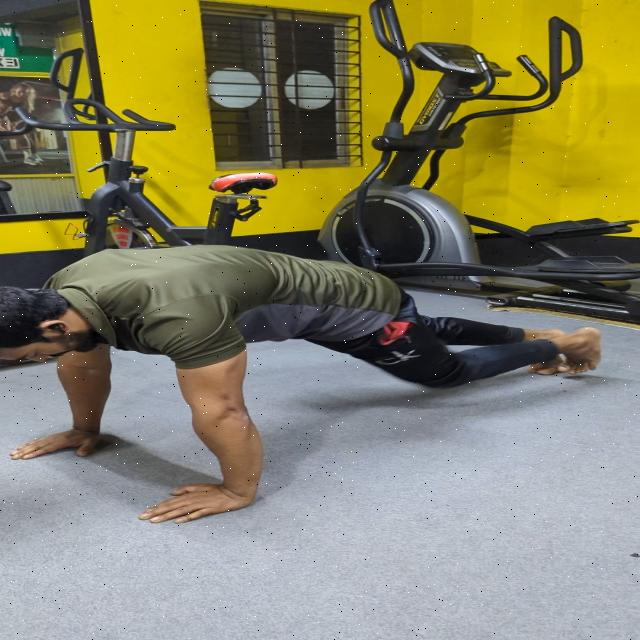Normal_MountainClimbers: (0, 220, 640, 573)
